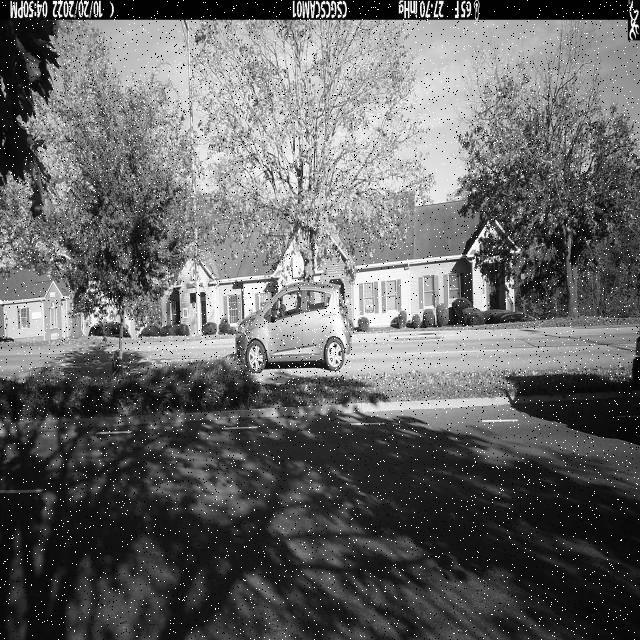Hatchback: (236, 282, 352, 374)
